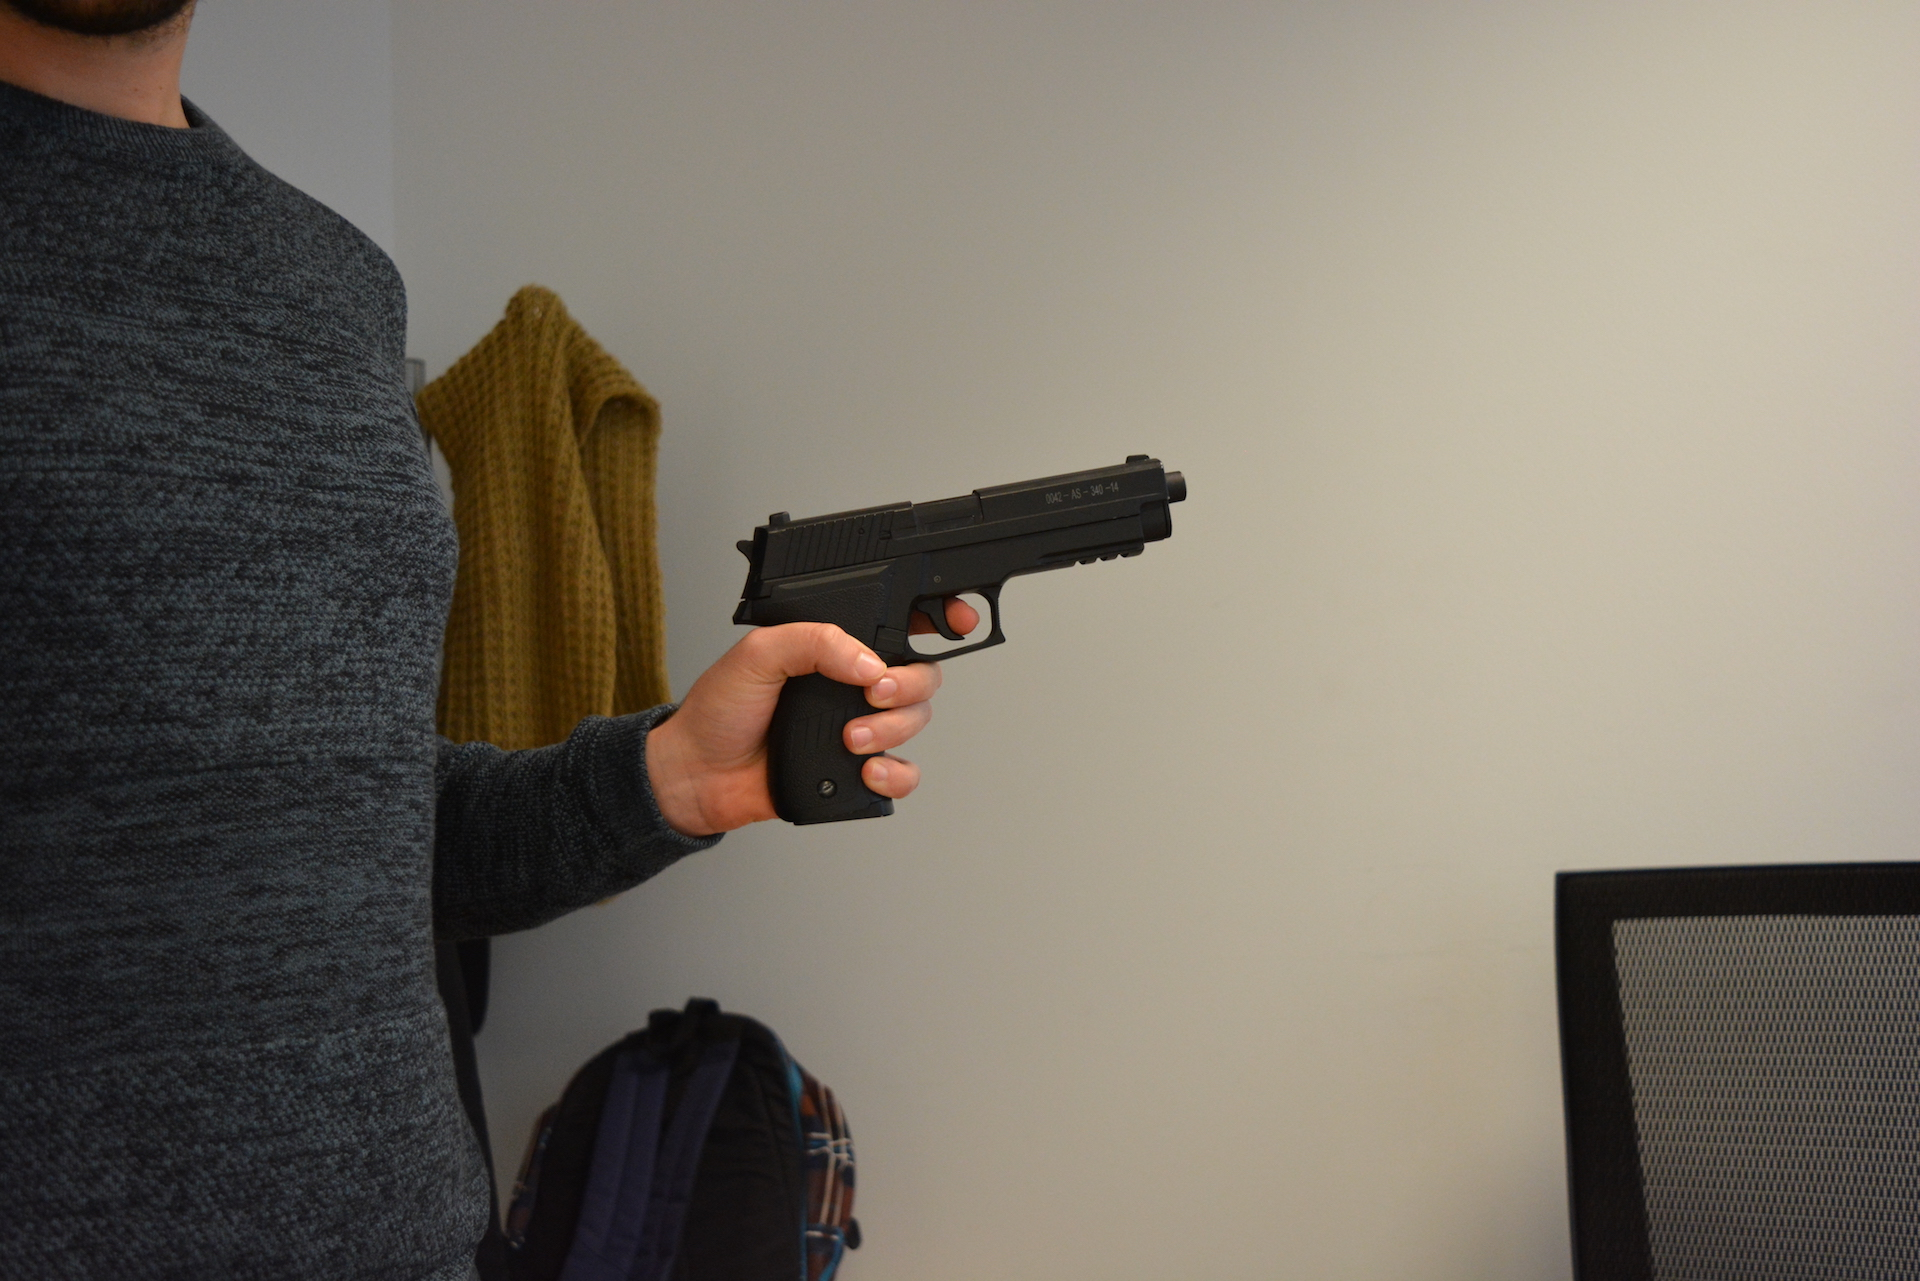pistol: (728, 450, 1188, 831)
